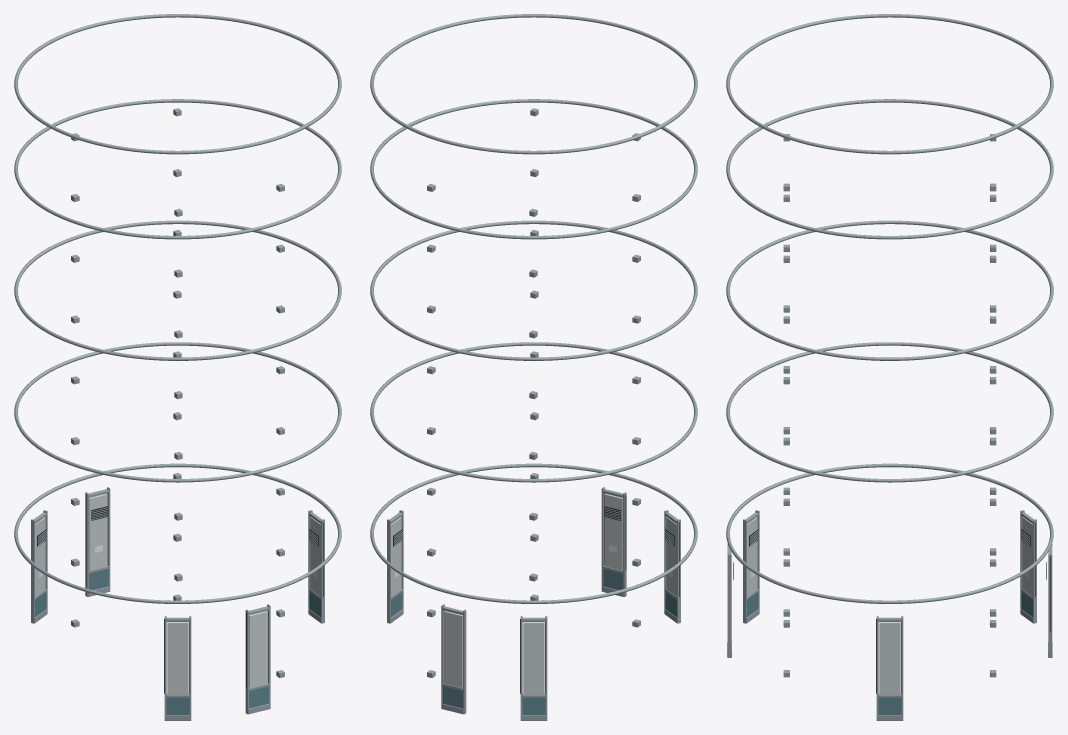
The model's file is SF_VB_Interior.fbx.
The picture shows the model from 3 angles, left to right: view 1: azimuth 30°, elevation 25°; view 2: azimuth 150°, elevation 25°; view 3: azimuth 270°, elevation 25°; orthographic projection.
Visible parts, largest first — view 1: SF_VB_Interior; view 2: SF_VB_Interior; view 3: SF_VB_Interior.
Part boxes in pixels (left/top/right/bottom): SF_VB_Interior: left=14, top=14, right=341, bottom=720; SF_VB_Interior: left=370, top=14, right=697, bottom=720; SF_VB_Interior: left=726, top=14, right=1053, bottom=720.
Bounding box in the file's own units: 977 × 1876 × 977.
